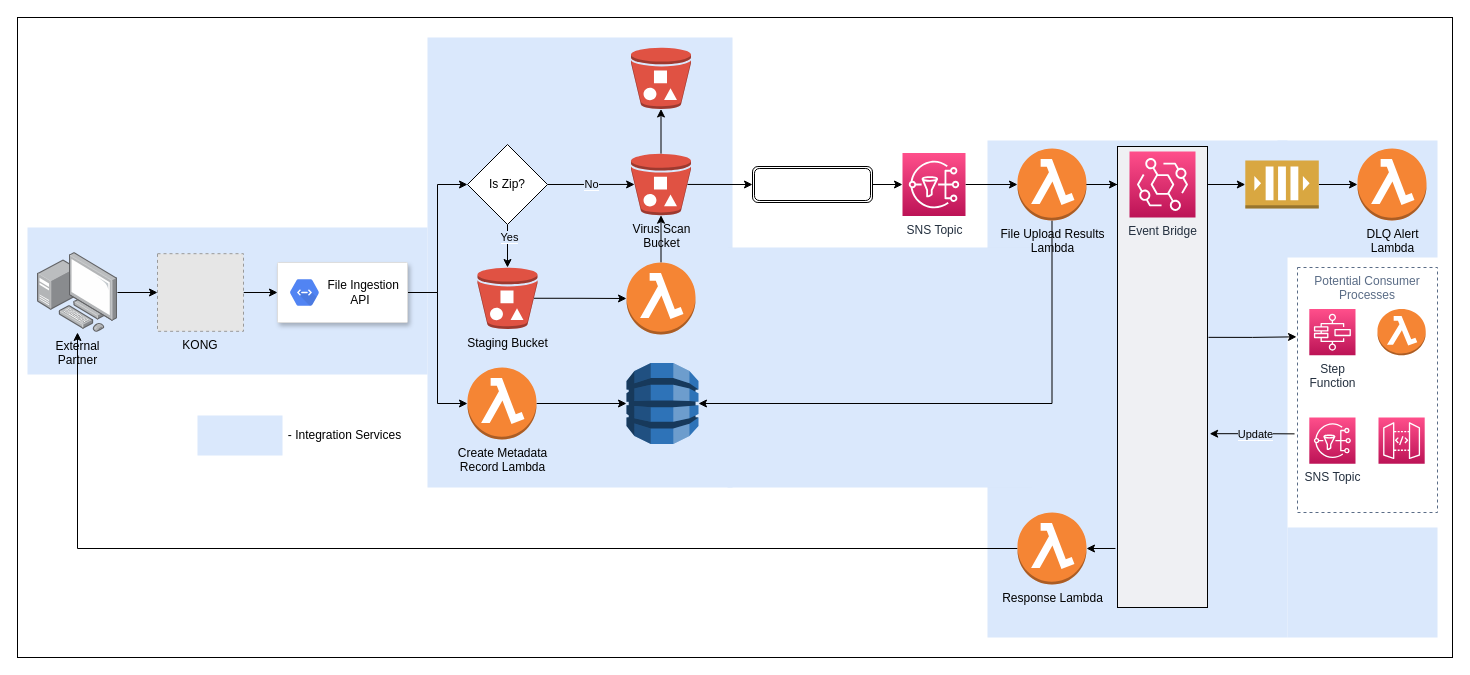
Image size: 1470x675. Some labels were removed from this diagram. Grey dashed boxes stand in for pictures. The shapes that lost their labels are listed below. From the top down, each one's centre as x and y in pixels, then its label:
At (x=660, y=77): "Benefits Replication Bucket".
At (x=812, y=184): "Trend Micro".
At (x=1281, y=184): "Dead Letter Queue".
At (x=661, y=298): "Unzip Lambda".
At (x=1401, y=331): "Lambda".
At (x=662, y=403): "File Metadata DynamoDB".
At (x=1401, y=440): "API Gateway".
